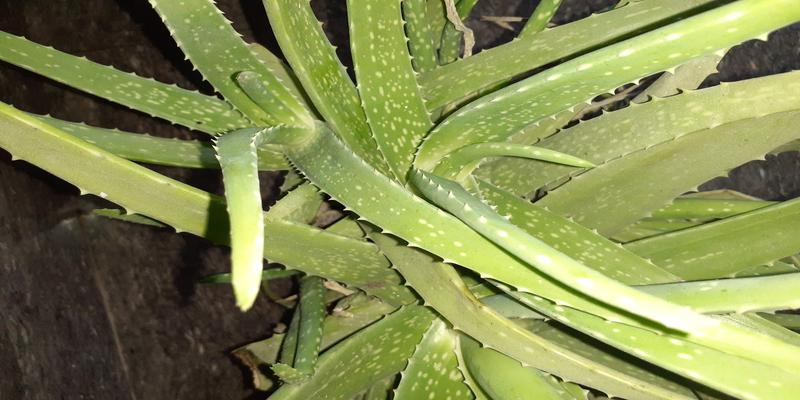Aloevera: (109, 34, 778, 380)
